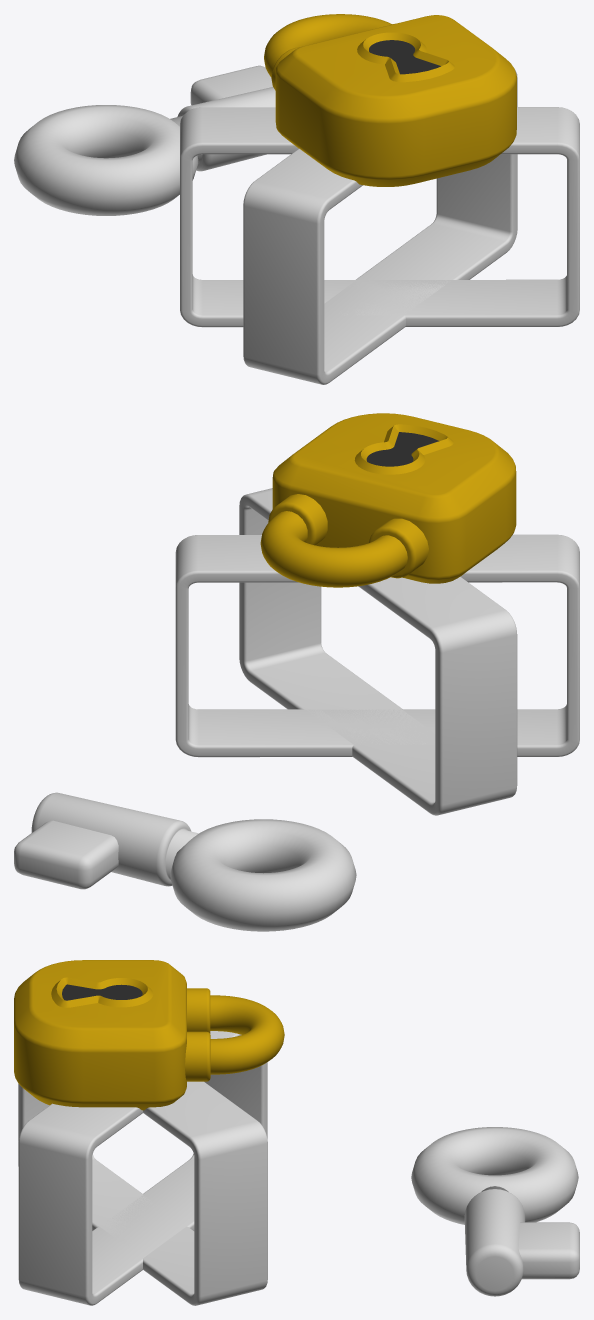
The model's file is Lock.fbx.
The picture shows the model from 3 angles, top to bottom: view 1: azimuth 30°, elevation 25°; view 2: azimuth 150°, elevation 25°; view 3: azimuth 270°, elevation 25°; orthographic projection. The views are drawn at different scales.
Visible parts, largest first — view 1: Cube.005, Torus, BézierCircle; view 2: Cube.005, Torus, BézierCircle; view 3: Cube.005, Torus, BézierCircle.
Boxes of the visible parts, <box> form: Cube.005: <box>180,70,579,384</box>; Torus: <box>264,14,516,186</box>; BézierCircle: <box>14,65,275,215</box>; Cube.005: <box>175,488,579,815</box>; Torus: <box>260,413,516,587</box>; BézierCircle: <box>14,792,356,931</box>; Cube.005: <box>18,1031,267,1305</box>; Torus: <box>14,960,284,1110</box>; BézierCircle: <box>411,1127,579,1296</box>.
Bounding box in the file's own units: 271 × 213 × 435.
